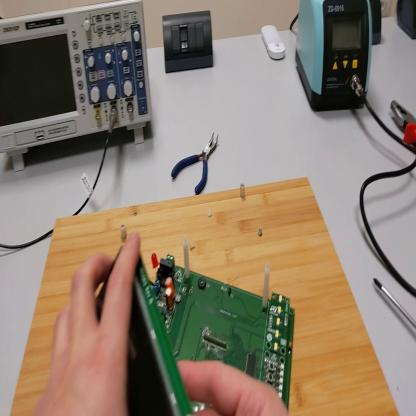hand: (34, 229, 141, 415), (178, 359, 288, 416)
low voltage board: (151, 255, 296, 416)
oscilloscope: (1, 5, 153, 175)
pliers: (172, 134, 220, 194), (392, 100, 416, 146)
screwdriver-: (375, 278, 416, 328)
socket: (397, 2, 415, 38), (372, 2, 383, 45)
welder station: (299, 2, 371, 112)
working area: (10, 177, 400, 416)
